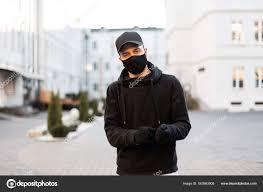cap: (110, 27, 146, 51)
mask: (116, 48, 151, 76)
